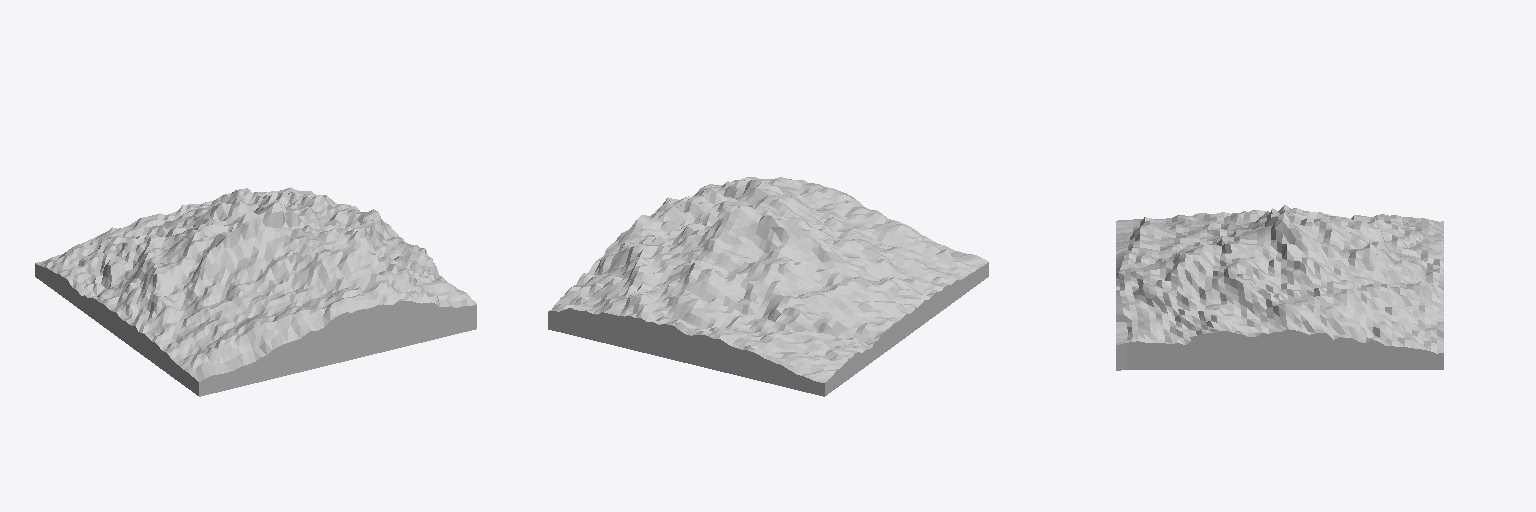
The model's file is Background.obj.
3 views of the same model, side by side, from view 1: azimuth 30°, elevation 25°; view 2: azimuth 150°, elevation 25°; view 3: azimuth 270°, elevation 25° (orthographic).
Visible parts, largest first — view 1: pPlane2; view 2: pPlane2; view 3: pPlane2.
Boxes of the visible parts, <box> form: pPlane2: <box>35,187,476,396</box>; pPlane2: <box>548,177,988,396</box>; pPlane2: <box>1116,205,1443,370</box>.
Size of the model in its own units: 50.97 by 16.43 by 52.23.